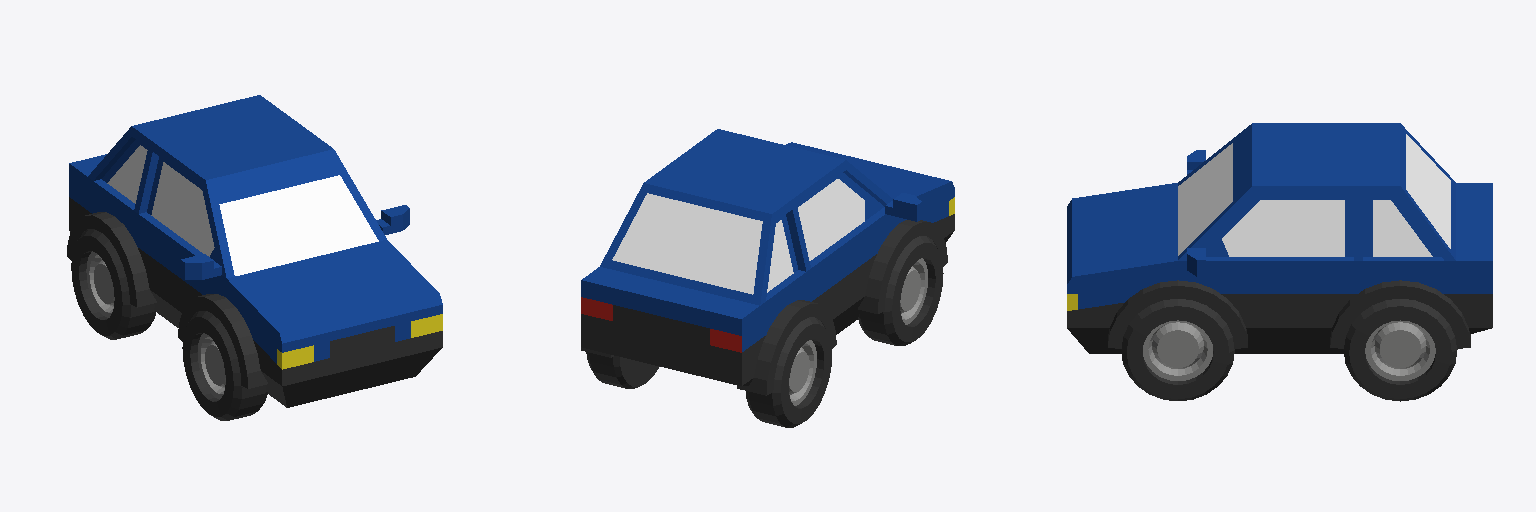
The model's file is car_small_blue.obj.
The picture shows the model from 3 angles: view 1: azimuth 30°, elevation 25°; view 2: azimuth 150°, elevation 25°; view 3: azimuth 270°, elevation 25°; orthographic projection.
Visible parts, largest first — view 1: mergedBlocks; view 2: mergedBlocks; view 3: mergedBlocks.
Boxes of the visible parts, box(x1,y1,x2,y2) form: mergedBlocks: box(67, 95, 442, 420); mergedBlocks: box(581, 129, 954, 427); mergedBlocks: box(1067, 123, 1492, 401).
Size of the model in its own units: 1.4 by 1.21 by 2.3.